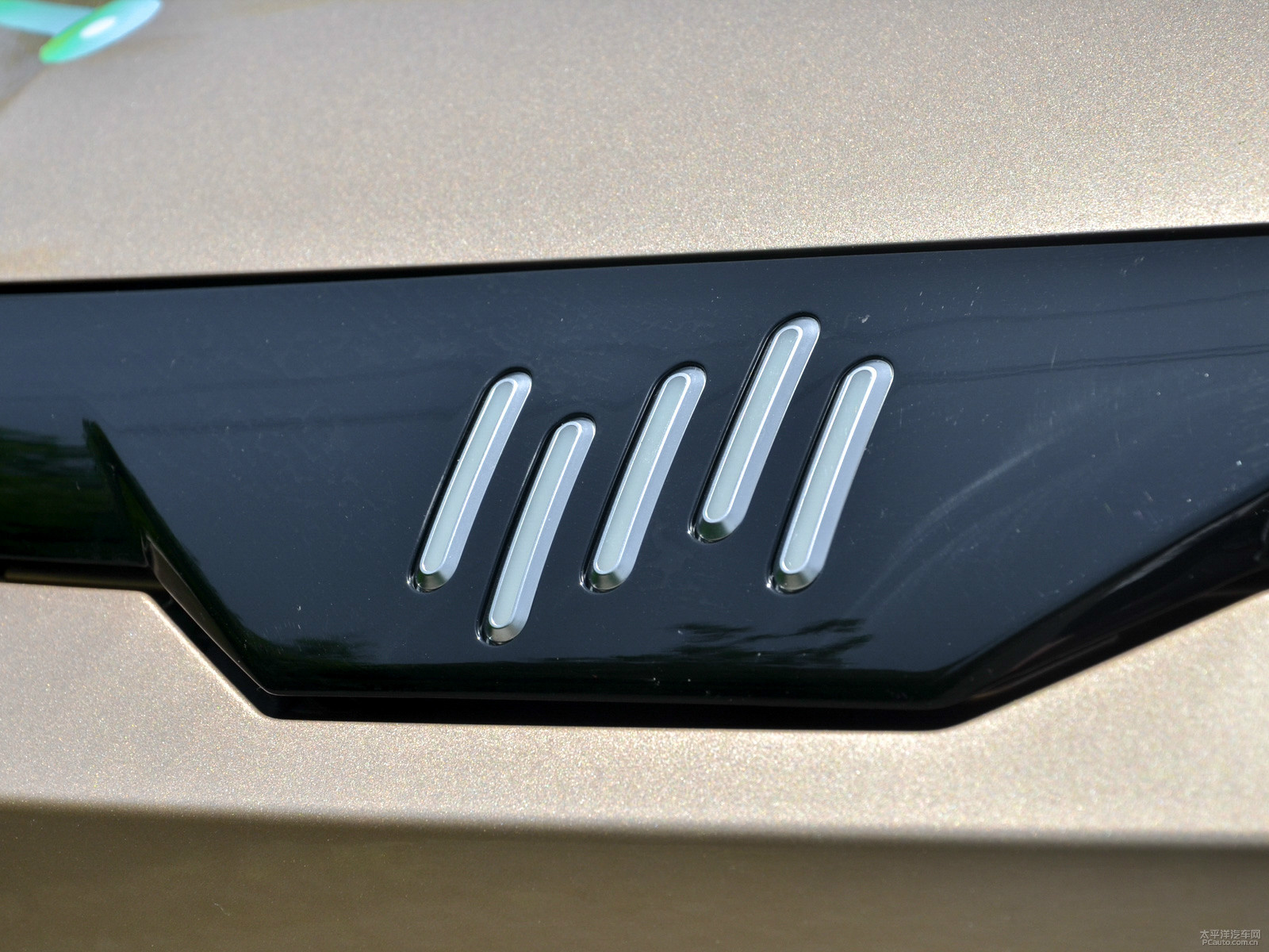WELTMEISTER: (415, 318, 893, 643)
